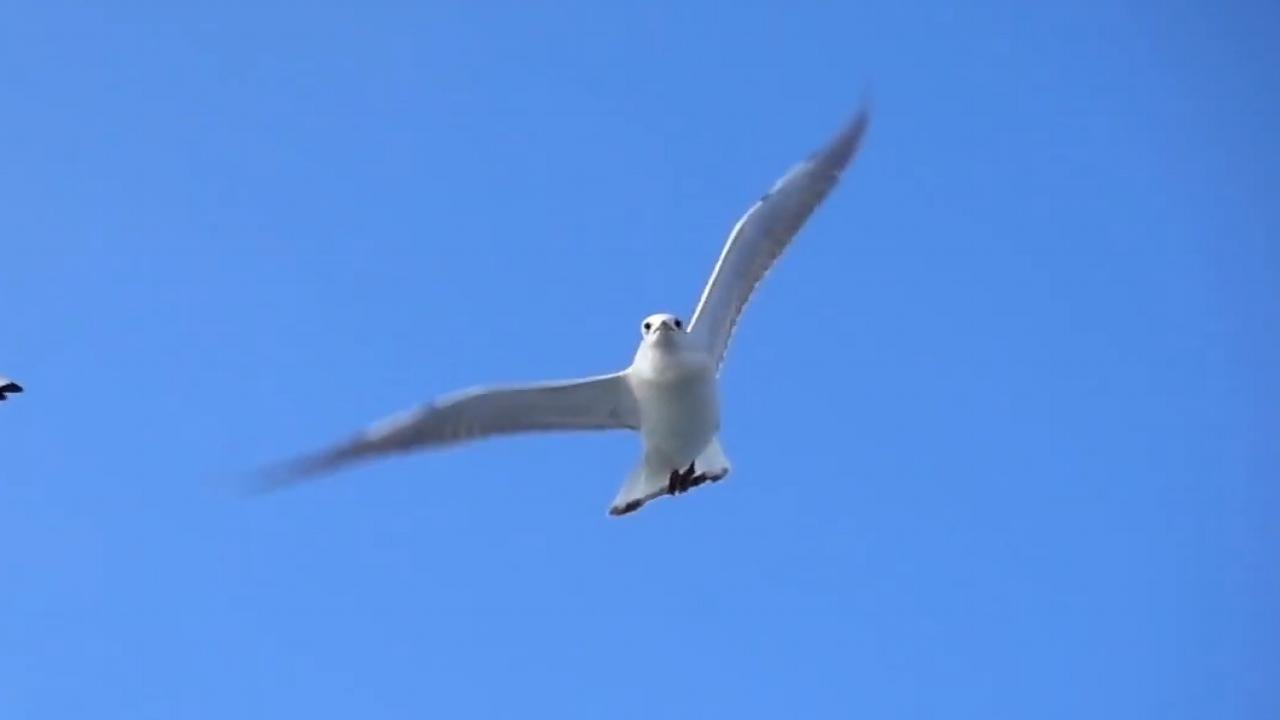Bird: (226, 79, 884, 529)
